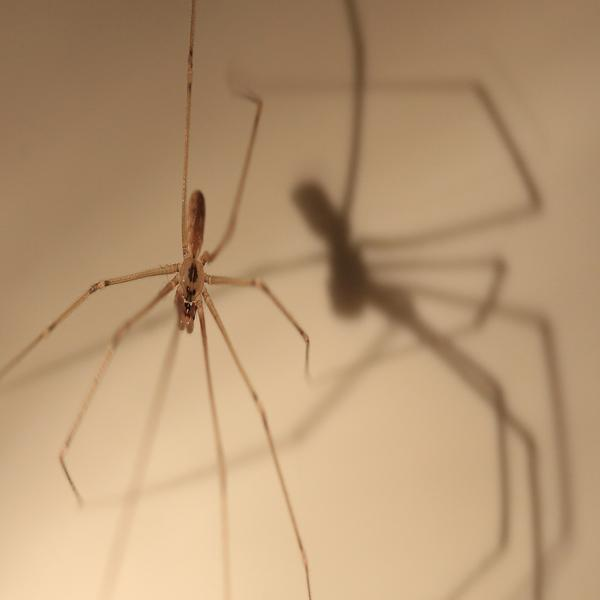Daddy Long Legs Spider: (9, 5, 318, 600)
